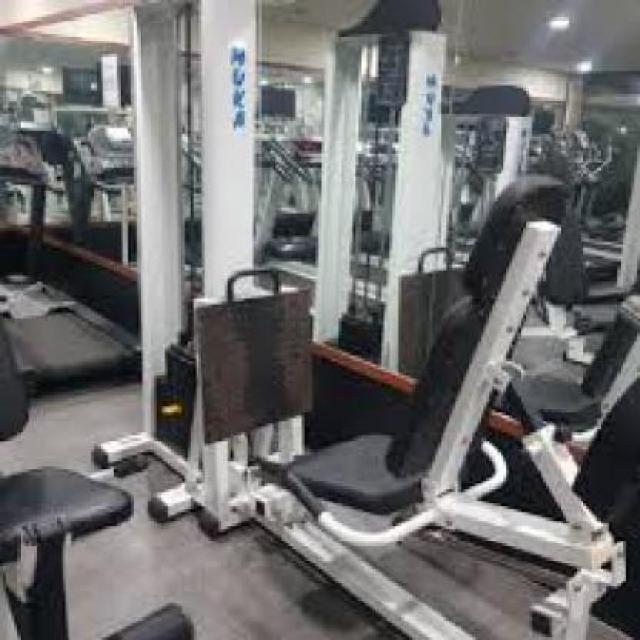leg press: (84, 0, 640, 640)
